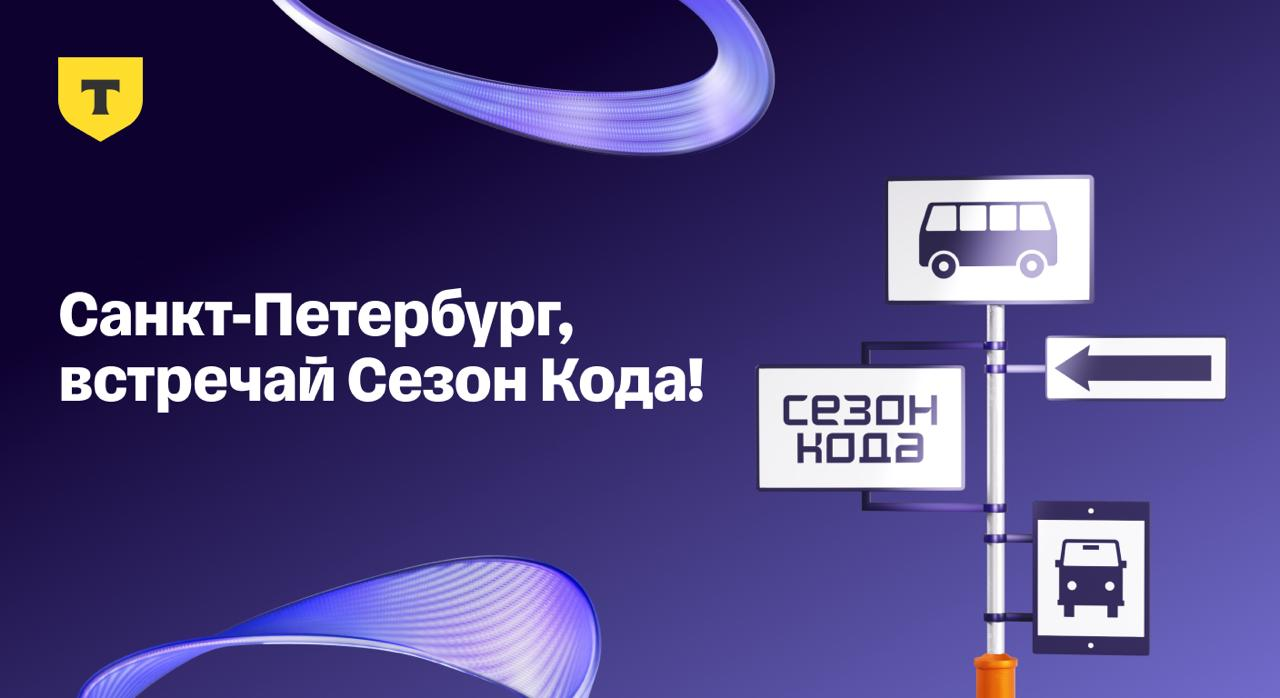TBank: (57, 56, 142, 142)
